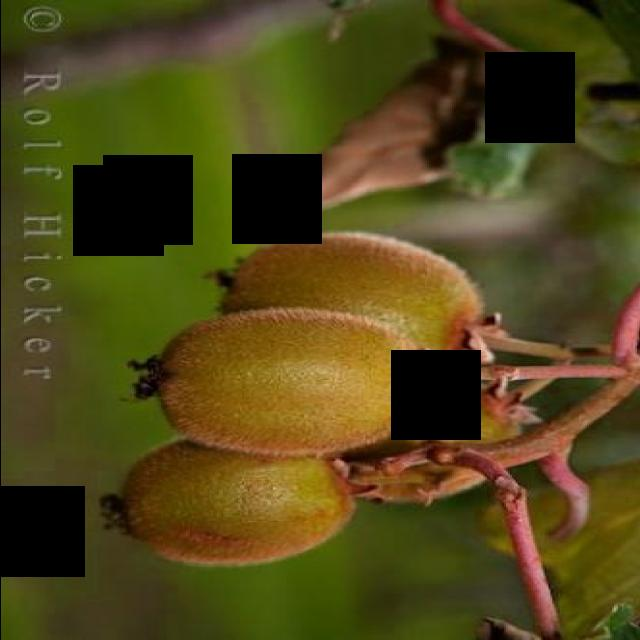kiwi: (140, 305, 439, 461), (213, 232, 493, 380), (106, 440, 364, 580), (348, 369, 541, 493)
